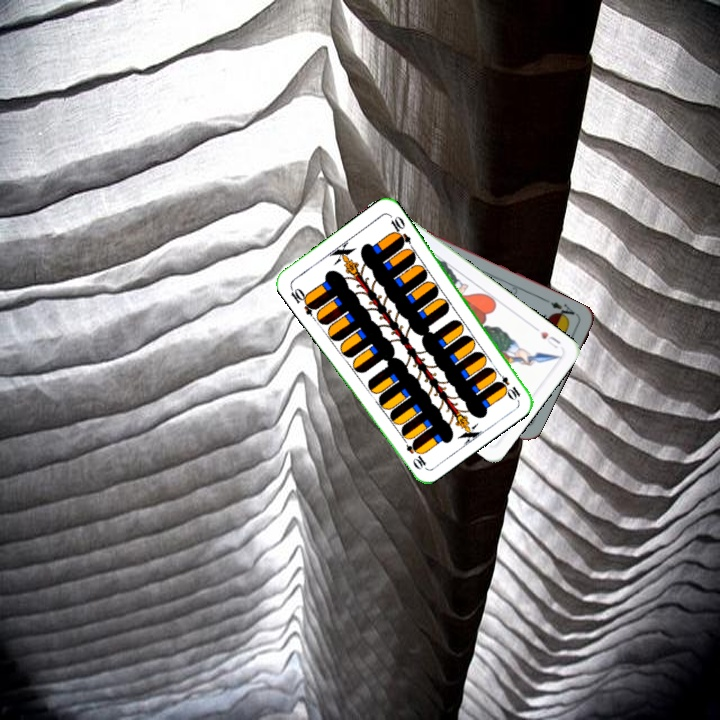E10: (286, 283, 319, 318), (491, 366, 523, 402)
EA: (542, 295, 580, 323)
HU: (536, 327, 563, 351)
